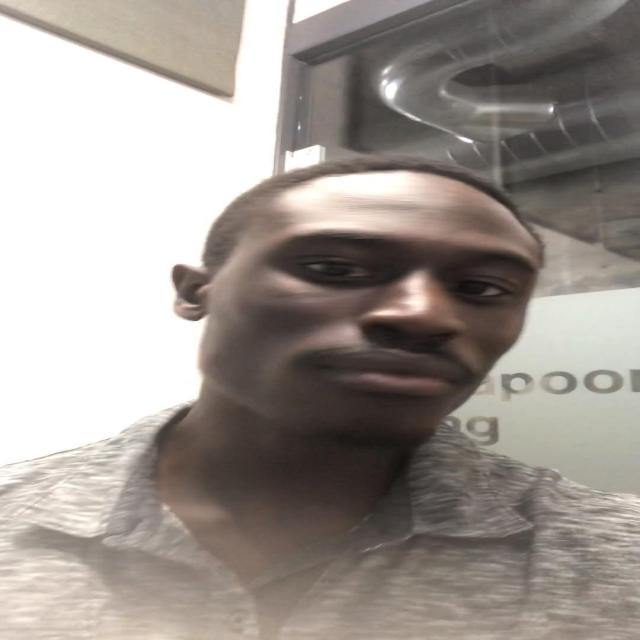face: (183, 179, 538, 450)
